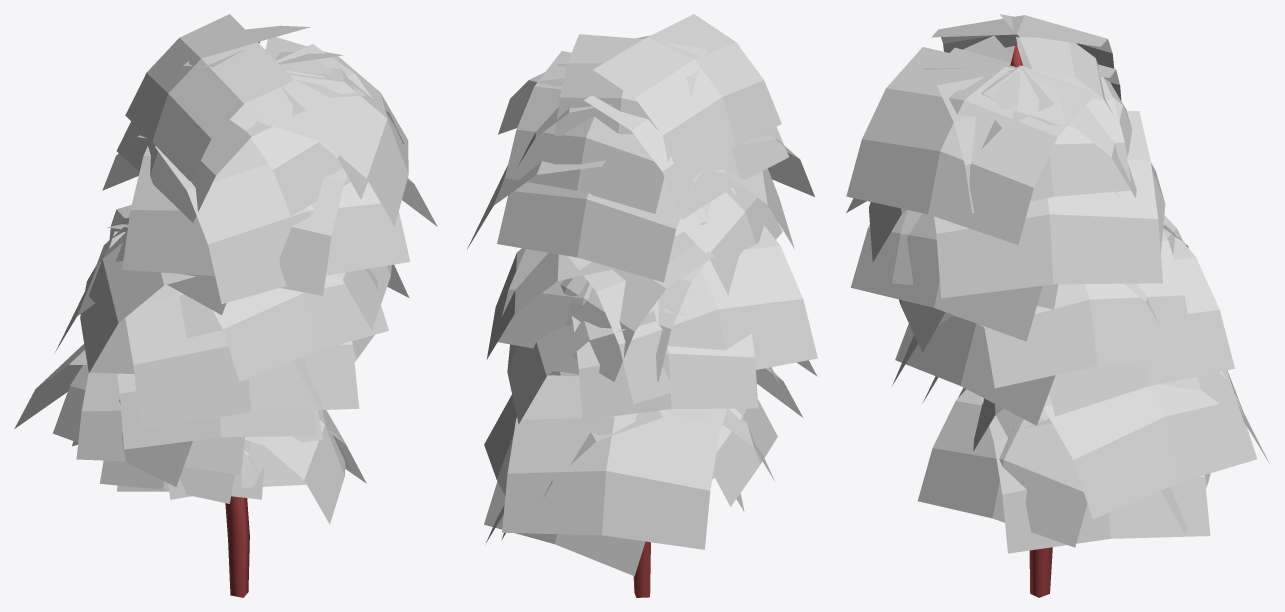
Rendered from Currant.fbx.
The picture shows the model from 3 angles, left to right: view 1: azimuth 30°, elevation 25°; view 2: azimuth 150°, elevation 25°; view 3: azimuth 270°, elevation 25°; orthographic projection. The views are drawn at different scales.
Visible parts, largest first — view 1: Currant3|leaf|Dupli|55, Currant3|leaf|Dupli|68, Currant3|leaf|Dupli|60, Currant3|leaf|Dupli|56, Currant3|leaf|Dupli|67, Currant3|leaf|Dupli|52, Currant3|leaf|Dupli|63, Currant3|leaf|Dupli|50, Currant3|leaf|Dupli|4, Currant3|leaf|Dupli|23, Currant3|leaf|Dupli|9, Currant3|leaf|Dupli|35 (+16 smaller); view 2: Currant3|leaf|Dupli|5, Currant3|leaf|Dupli|23, Currant3|leaf|Dupli|60, Currant3|leaf|Dupli|57, Currant3|leaf|Dupli|, Currant3|leaf|Dupli|14, Currant3|leaf|Dupli|9, Currant3|leaf|Dupli|26, Currant3|leaf|Dupli|65, Currant3|leaf|Dupli|43, Currant3|leaf|Dupli|29, Currant3|leaf|Dupli|10 (+13 smaller); view 3: Currant3|leaf|Dupli|56, Currant3|leaf|Dupli|44, Currant3|leaf|Dupli|58, Currant3|leaf|Dupli|31, Currant3|leaf|Dupli|35, Currant3|leaf|Dupli|10, Currant3|leaf|Dupli|64, Currant3|leaf|Dupli|41, Currant3|leaf|Dupli|2, Currant3|leaf|Dupli|46, Currant3|leaf|Dupli|60, Currant3|leaf|Dupli| (+10 smaller).
Part boxes in pixels (x1,y1,x2,y2): Currant3|leaf|Dupli|55: [125, 285, 359, 428]; Currant3|leaf|Dupli|68: [155, 138, 410, 303]; Currant3|leaf|Dupli|60: [125, 14, 294, 181]; Currant3|leaf|Dupli|56: [258, 37, 408, 225]; Currant3|leaf|Dupli|67: [122, 146, 347, 295]; Currant3|leaf|Dupli|52: [212, 274, 388, 382]; Currant3|leaf|Dupli|63: [230, 44, 372, 215]; Currant3|leaf|Dupli|50: [76, 372, 244, 475]; Currant3|leaf|Dupli|4: [117, 373, 315, 449]; Currant3|leaf|Dupli|23: [80, 223, 196, 372]; Currant3|leaf|Dupli|9: [117, 86, 305, 222]; Currant3|leaf|Dupli|35: [245, 410, 345, 524]; Currant3|leaf|Dupli|5: [502, 375, 726, 549]; Currant3|leaf|Dupli|23: [568, 225, 817, 404]; Currant3|leaf|Dupli|60: [593, 14, 781, 179]; Currant3|leaf|Dupli|57: [497, 170, 703, 282]; Currant3|leaf|Dupli|: [505, 51, 670, 213]; Currant3|leaf|Dupli|14: [571, 316, 758, 419]; Currant3|leaf|Dupli|9: [584, 95, 788, 219]; Currant3|leaf|Dupli|26: [555, 34, 707, 136]; Currant3|leaf|Dupli|65: [560, 245, 714, 381]; Currant3|leaf|Dupli|43: [498, 249, 707, 381]; Currant3|leaf|Dupli|29: [678, 184, 782, 295]; Currant3|leaf|Dupli|10: [507, 311, 656, 423]; Currant3|leaf|Dupli|56: [846, 47, 1094, 244]; Currant3|leaf|Dupli|44: [934, 111, 1162, 298]; Currant3|leaf|Dupli|58: [1043, 371, 1257, 519]; Currant3|leaf|Dupli|31: [984, 231, 1194, 388]; Currant3|leaf|Dupli|35: [917, 389, 1087, 547]; Currant3|leaf|Dupli|10: [1049, 233, 1234, 416]; Currant3|leaf|Dupli|64: [851, 210, 1042, 341]; Currant3|leaf|Dupli|41: [936, 67, 1130, 212]; Currant3|leaf|Dupli|2: [981, 397, 1210, 553]; Currant3|leaf|Dupli|46: [895, 315, 1055, 425]; Currant3|leaf|Dupli|60: [931, 15, 1114, 68]; Currant3|leaf|Dupli|: [1016, 36, 1136, 197].
Bounding box in the file's own units: 526 × 869 × 595.
